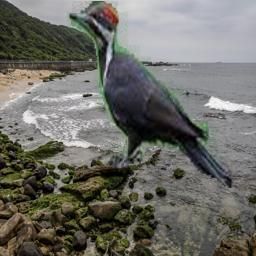Woodpecker: (67, 1, 233, 188)
